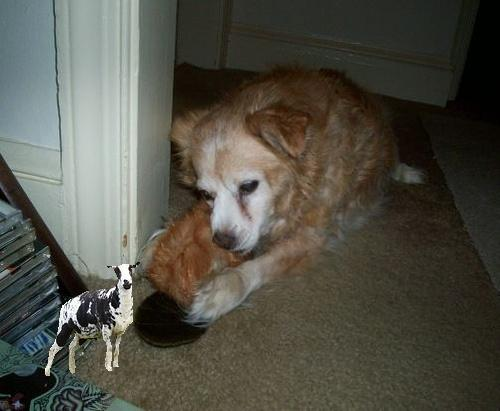tampered: (46, 263, 140, 376)
